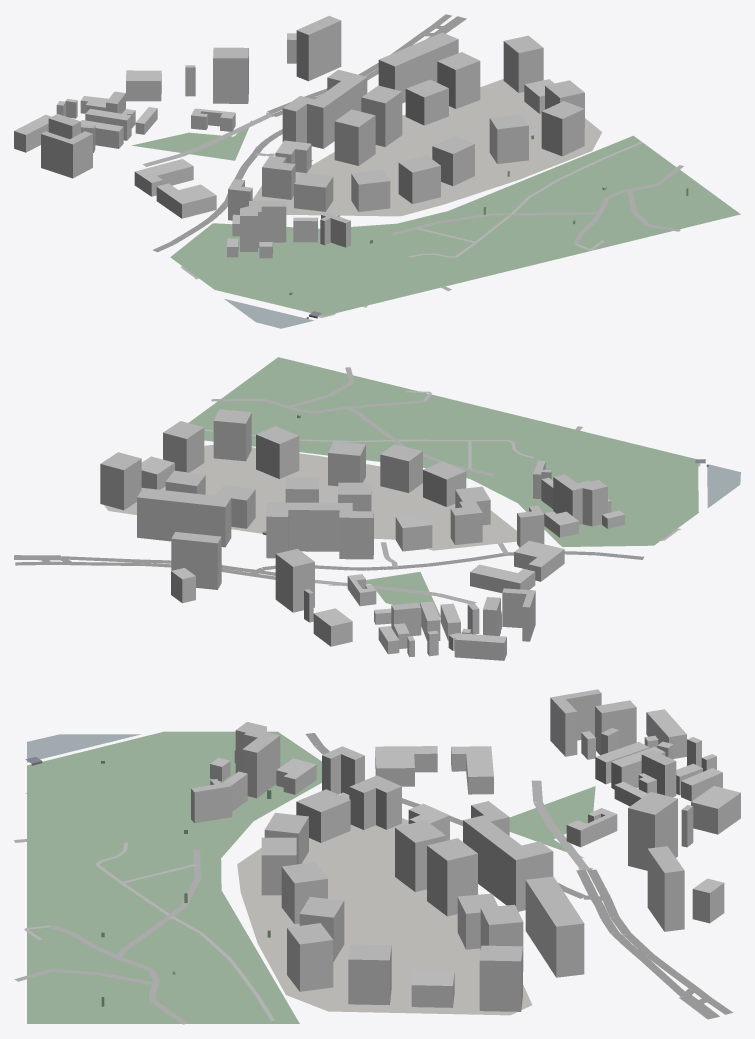
3 renders of one model, top to bottom at view 1: azimuth 30°, elevation 25°; view 2: azimuth 150°, elevation 25°; view 3: azimuth 270°, elevation 25°, orthographic. The views are drawn at different scales.
Bounding box in the file's own units: 509 × 49.67 × 525.
